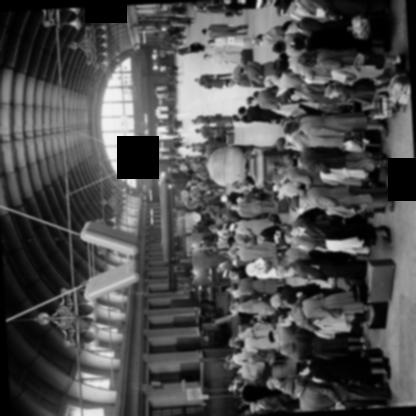backpack: (373, 66, 394, 84)
handbag: (201, 184, 274, 277), (347, 275, 369, 302), (347, 13, 369, 39), (295, 167, 314, 191), (346, 128, 369, 139), (353, 51, 371, 64), (351, 380, 370, 388), (329, 307, 342, 313), (223, 36, 234, 42), (310, 263, 319, 268), (213, 73, 217, 79), (215, 113, 221, 117), (237, 0, 245, 3), (186, 19, 190, 22)
suitcase: (363, 256, 395, 302), (365, 300, 388, 328), (368, 180, 386, 212), (353, 133, 382, 152), (352, 280, 368, 301), (272, 200, 290, 214), (361, 97, 378, 110), (366, 164, 379, 179), (242, 47, 253, 63), (226, 130, 235, 144), (216, 126, 224, 136), (224, 11, 234, 17)
